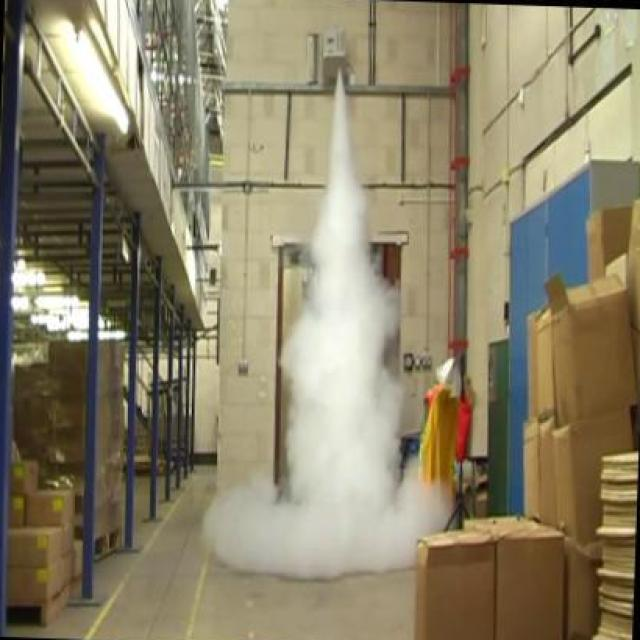fire: (276, 99, 411, 504), (196, 475, 466, 586)
